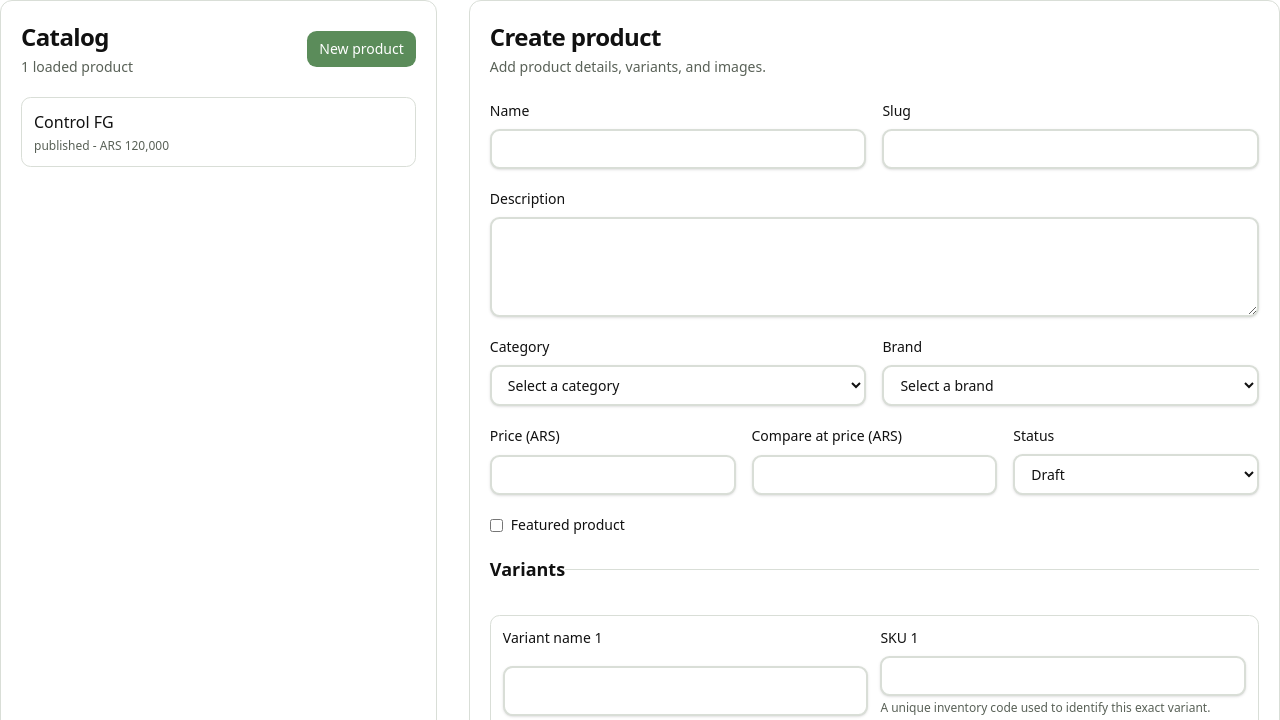
Test: AdminCatalogCrud › loads catalog and taxonomy before rendering an editable product
The width and height of the screenshot is (1280, 720).
Click the button "Control FG published - ARS 120,000": click(74, 122) top-left (21, 97), bottom-right (416, 167)
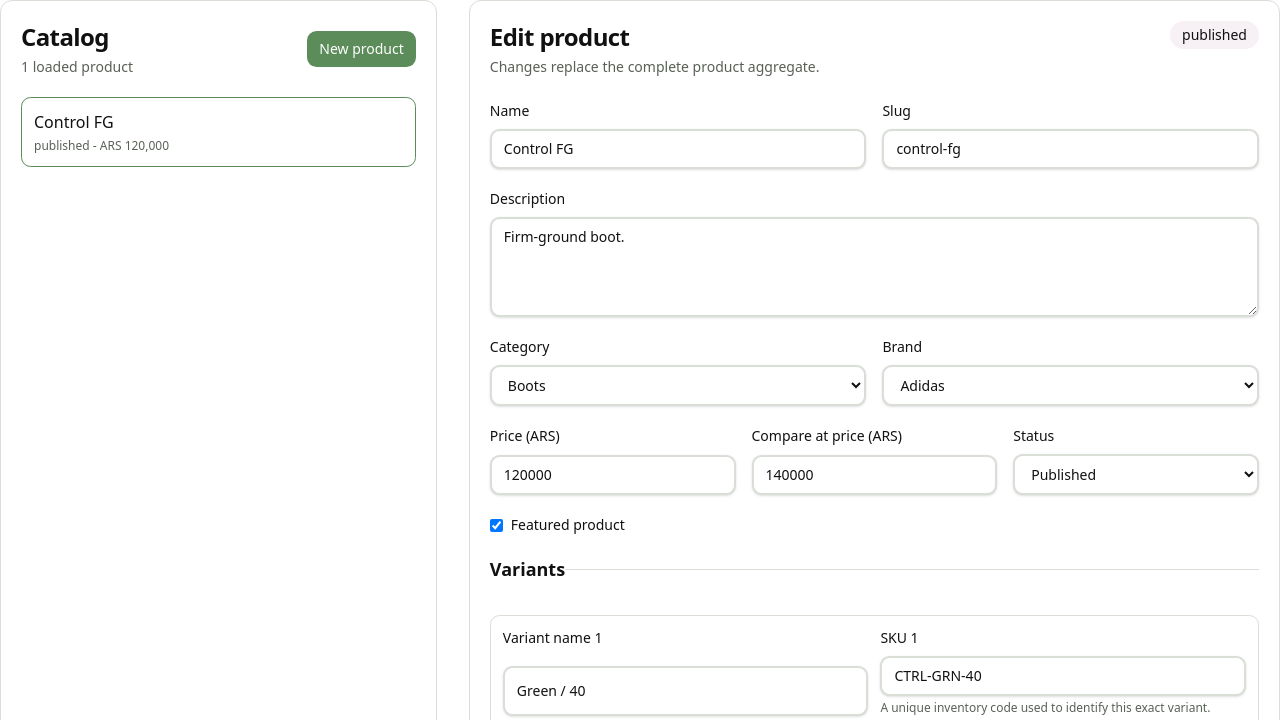
Check: the dropdown labelled "Status" shows "Published", box top-left (1013, 454), bottom-right (1259, 495)
